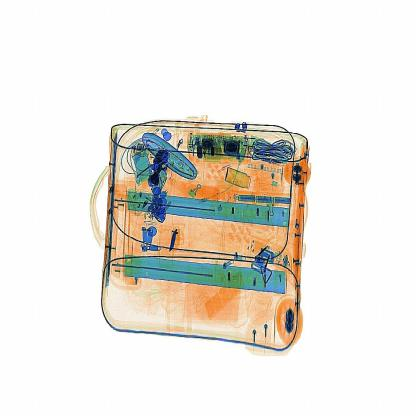wrench: (162, 217, 186, 260)
